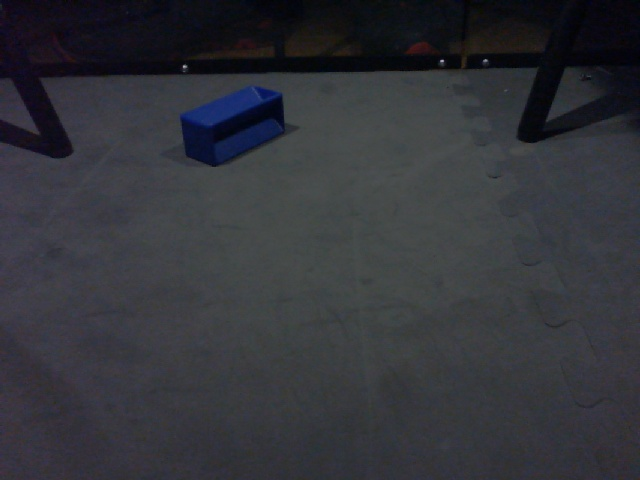BlueSample: (177, 83, 289, 171)
